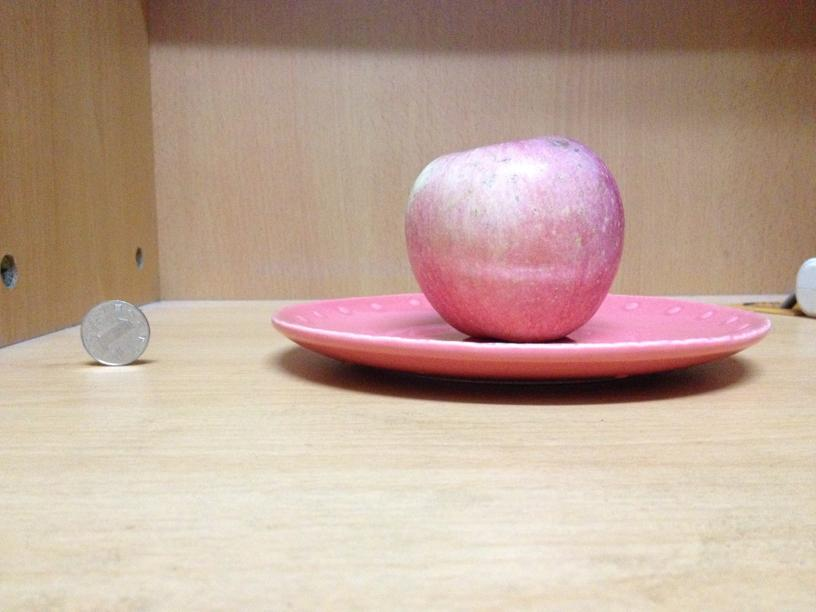apple: (401, 138, 628, 339)
coin: (77, 301, 149, 366)
